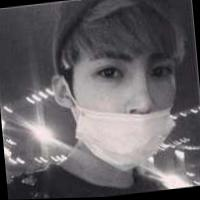WRONG: (61, 43, 191, 176)
